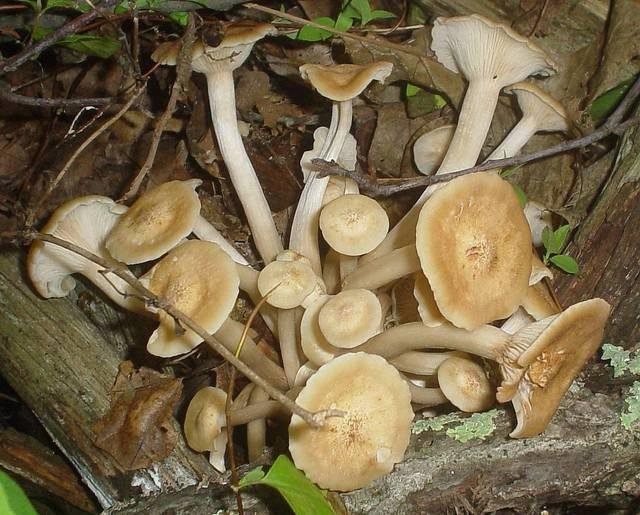edible_mushroom: (25, 13, 611, 492)
